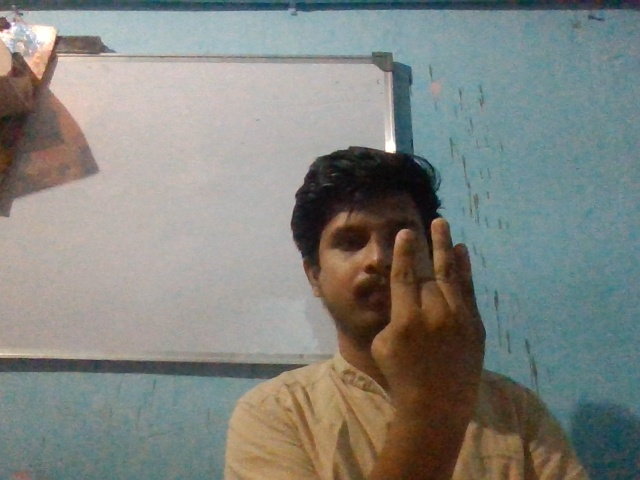Akash: (353, 210, 508, 408)
